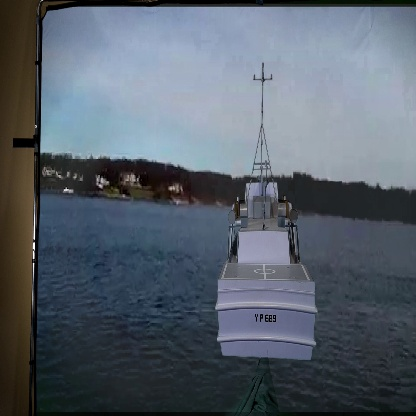YP689: (214, 70, 315, 359)
